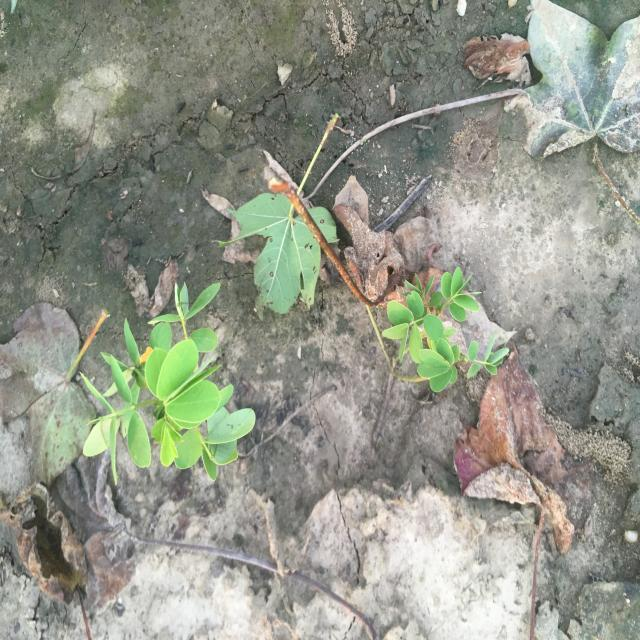Sicklepod: (79, 280, 257, 486), (381, 266, 510, 394)
